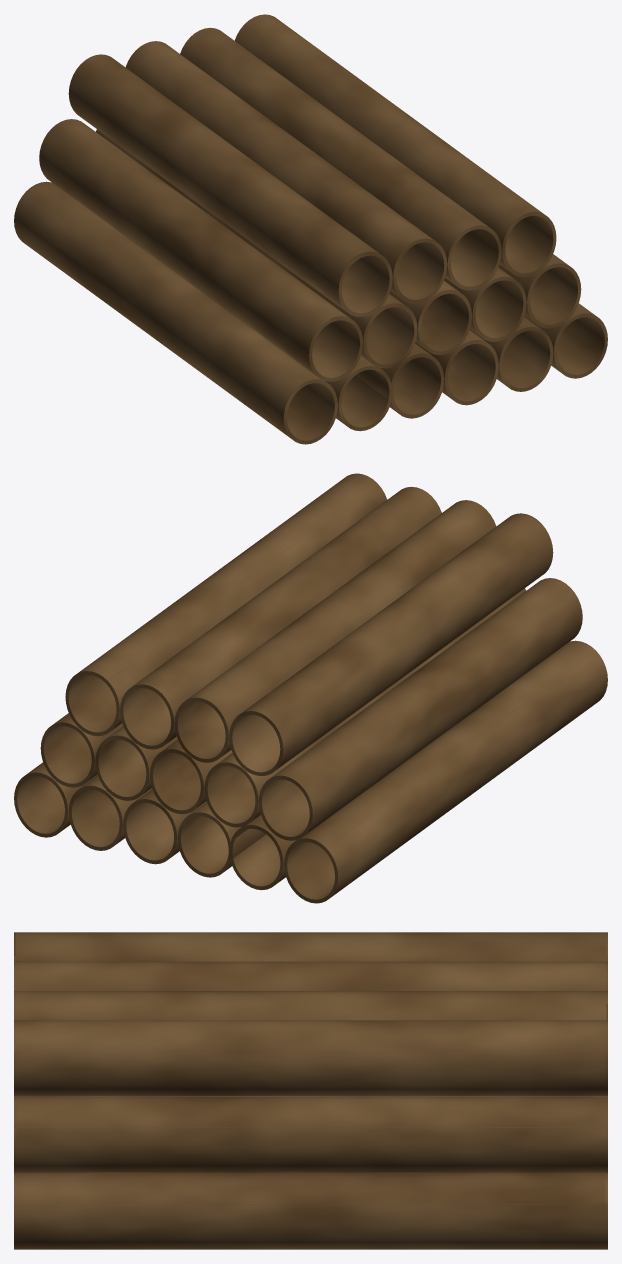
The model's file is rustyPipes.fbx.
3 views of the same model, one above another, from view 1: azimuth 30°, elevation 25°; view 2: azimuth 150°, elevation 25°; view 3: azimuth 270°, elevation 25° (orthographic). The views are drawn at different scales.
Visible parts, largest first — view 1: SteelPipes; view 2: SteelPipes; view 3: SteelPipes.
Part boxes in pixels (x1,y1,x2,y2): SteelPipes: [14, 14, 607, 444]; SteelPipes: [14, 473, 607, 903]; SteelPipes: [14, 932, 607, 1249].
Bounding box in the file's own units: 197 × 103 × 284.
1 material, 1 textured.
